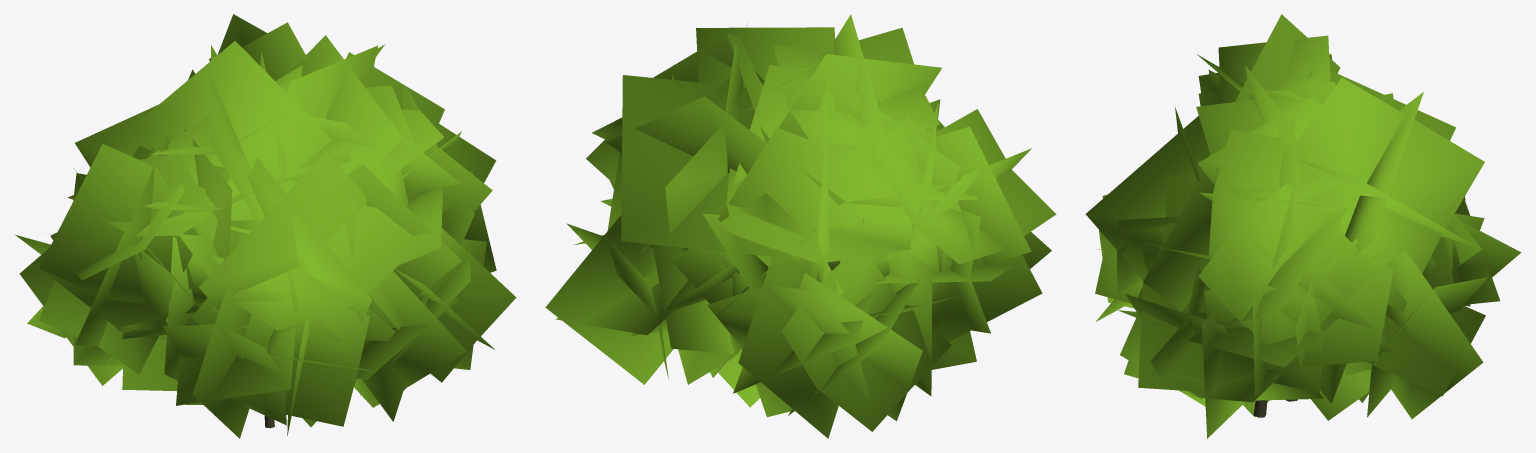
File: SM_Bush2_Dry.fbx
The picture shows the model from 3 angles, left to right: view 1: azimuth 30°, elevation 25°; view 2: azimuth 150°, elevation 25°; view 3: azimuth 270°, elevation 25°; orthographic projection. The views are drawn at different scales.
Parts seen in each view (by area): view 1: Bush2; view 2: Bush2; view 3: Bush2.
Boxes of the visible parts, left/top/right/bottom form: Bush2: left=15, top=14, right=516, bottom=438; Bush2: left=545, top=14, right=1056, bottom=438; Bush2: left=1085, top=14, right=1521, bottom=438.
Size of the model in its own units: 423 by 347 by 372.
